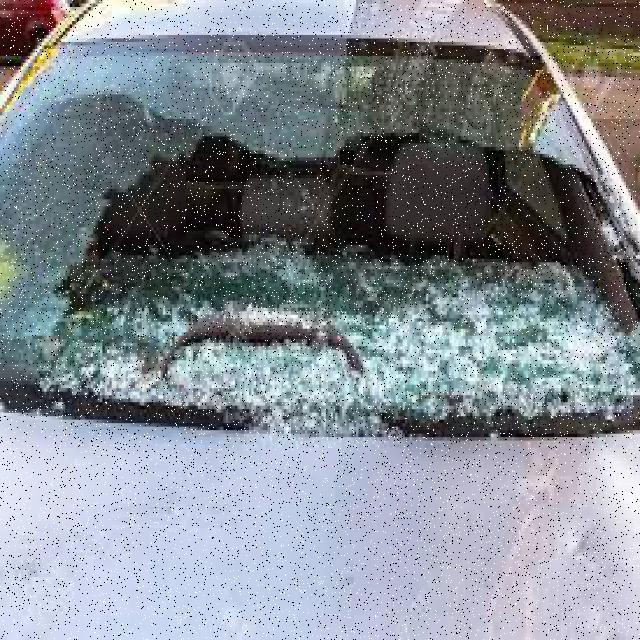Rear-windscreen-Damage: (0, 35, 638, 465)
